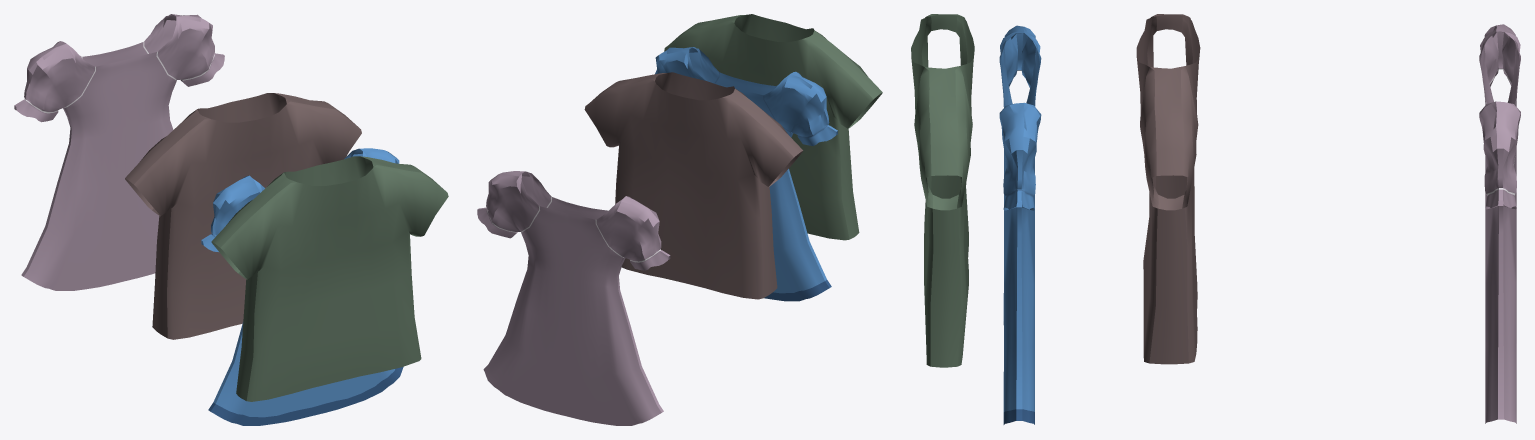
Rendered from Saty.fbx.
3 views of the same model, side by side, from view 1: azimuth 30°, elevation 25°; view 2: azimuth 150°, elevation 25°; view 3: azimuth 270°, elevation 25° (orthographic). The views are drawn at different scales.
Parts seen in each view (by area): view 1: tshirt.001, Dress.001, tshirt, Dress; view 2: Dress.001, tshirt, tshirt.001, Dress; view 3: tshirt, tshirt.001, Dress.001, Dress.
Part boxes in pixels (<box>): tshirt.001: <box>211,156,448,401</box>; Dress.001: <box>14,14,224,290</box>; tshirt: <box>125,93,361,339</box>; Dress: <box>201,148,403,425</box>; Dress.001: <box>477,171,670,425</box>; tshirt: <box>584,72,803,299</box>; tshirt.001: <box>664,14,882,240</box>; Dress: <box>655,47,837,301</box>; tshirt: <box>1136,14,1200,364</box>; tshirt.001: <box>911,14,974,367</box>; Dress.001: <box>1479,24,1520,423</box>; Dress: <box>999,25,1041,424</box>.
Bounding box in the file's own units: 57.79 × 64.38 × 103.
